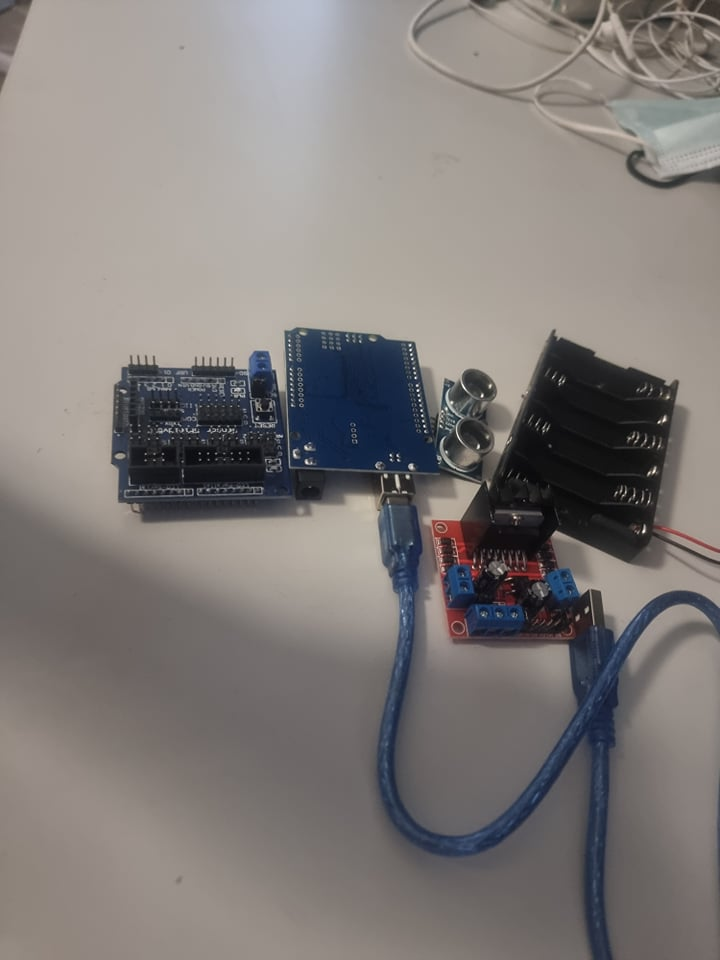5V EXPANSION: (105, 351, 288, 510)
BATTERY BOX: (511, 320, 660, 563)
MOTOR: (436, 486, 593, 653)
